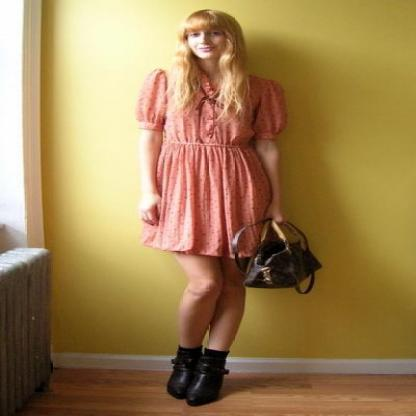bag: (247, 218, 322, 290)
dress: (122, 69, 294, 265)
shoe: (166, 345, 229, 406)
